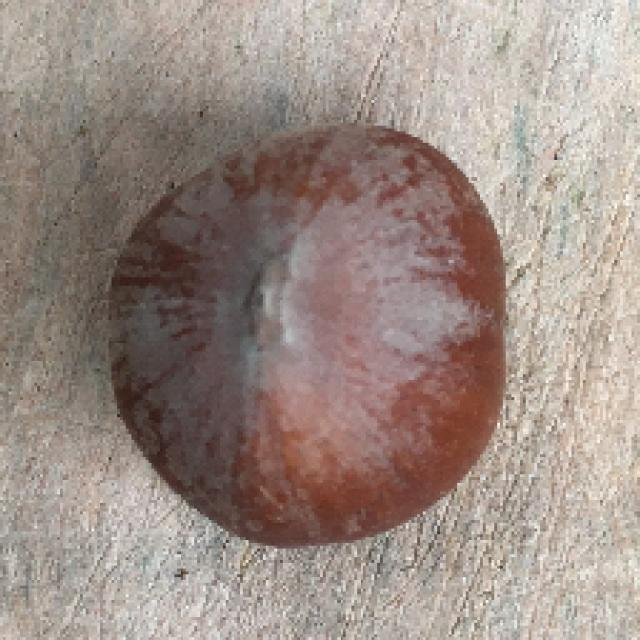qualityHazelnut: (107, 119, 511, 555)
